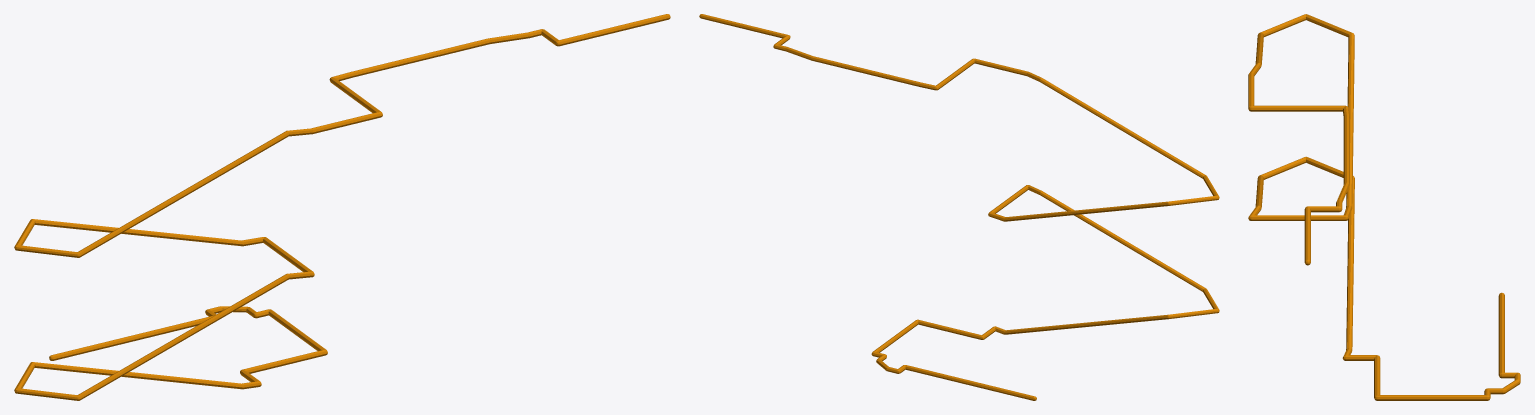
3 views of the same model, side by side, from view 1: azimuth 30°, elevation 25°; view 2: azimuth 150°, elevation 25°; view 3: azimuth 270°, elevation 25° (orthographic). The views are drawn at different scales.
Size of the model in its own units: 2402 by 1020 by 866.
